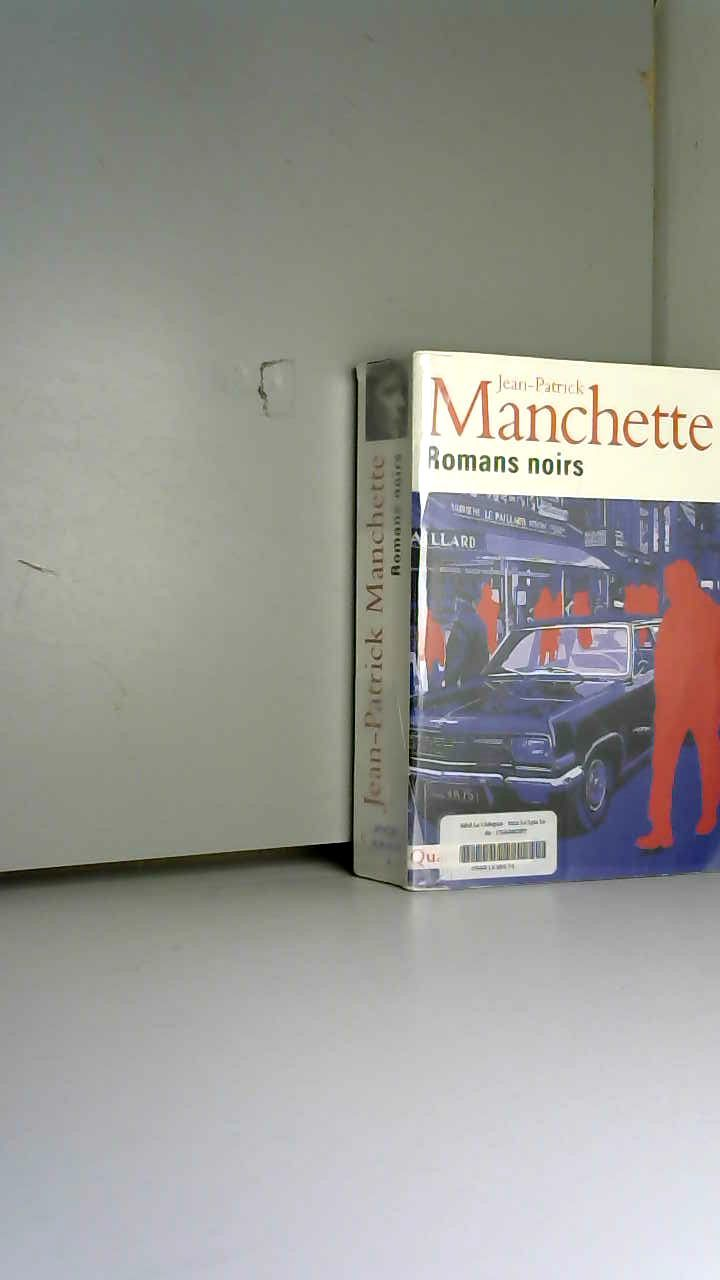book: (320, 320, 720, 915)
